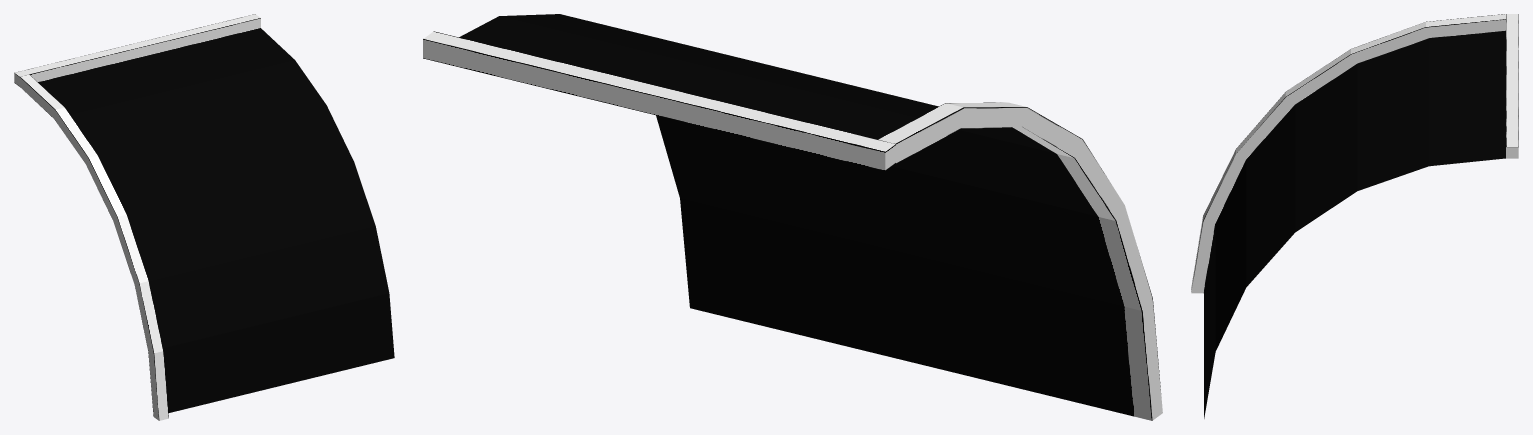
File: gh_arc1.glb
3 views of the same model, side by side, from view 1: azimuth 30°, elevation 25°; view 2: azimuth 150°, elevation 25°; view 3: azimuth 270°, elevation 25° (orthographic). The views are drawn at different scales.
Visible parts, largest first — view 1: gh_arc1; view 2: gh_arc1; view 3: gh_arc1.
Part boxes in pixels (<box>): gh_arc1: <box>14,14,394,420</box>; gh_arc1: <box>423,14,1162,420</box>; gh_arc1: <box>1191,14,1518,418</box>.
Bounding box in the file's own units: 1 × 0.96 × 1.04.
Materials: 3 (3 with a texture image).
